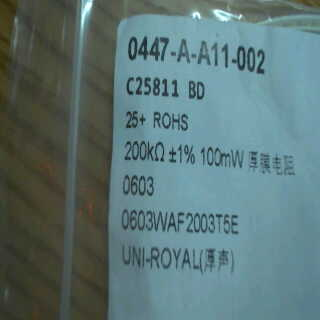200kR: (114, 135, 170, 165)
